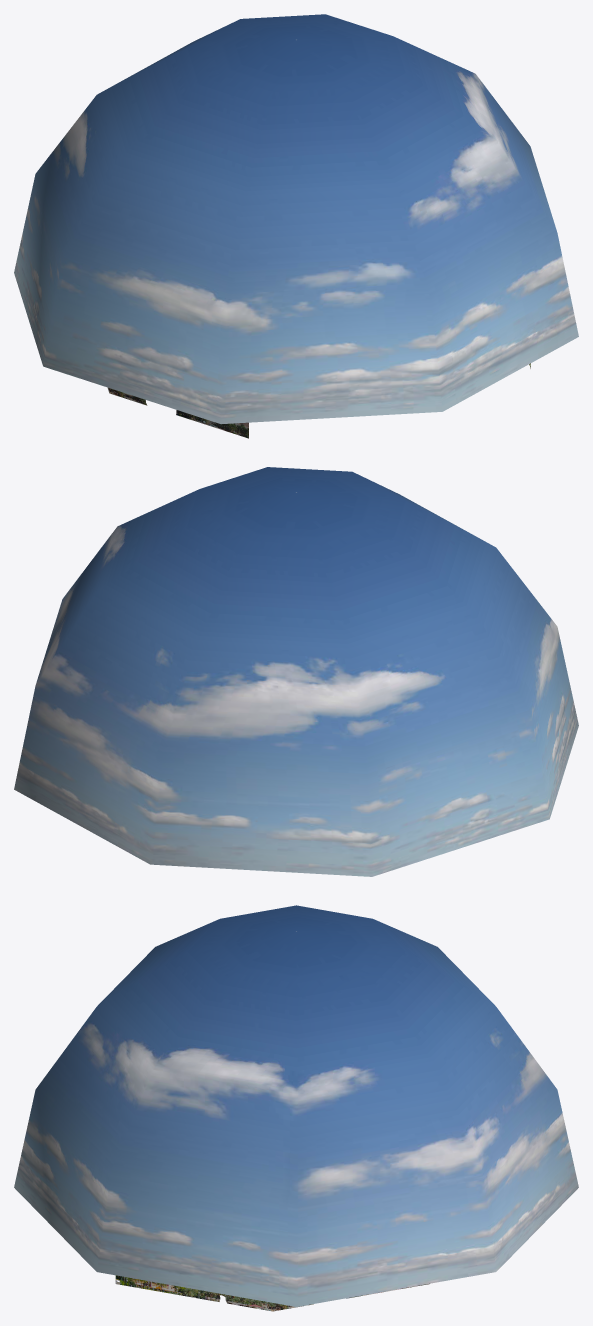
File: Map02.fbx
3 views of the same model, one above another, from view 1: azimuth 30°, elevation 25°; view 2: azimuth 150°, elevation 25°; view 3: azimuth 270°, elevation 25° (orthographic). The views are drawn at different scales.
Parts seen in each view (by area): view 1: obj9, obj6; view 2: obj9; view 3: obj9, obj6.
Part boxes in pixels (left/top/right/bottom): obj9: left=14, top=14, right=578, bottom=424; obj6: left=107, top=363, right=530, bottom=438; obj9: left=14, top=467, right=578, bottom=876; obj9: left=14, top=905, right=578, bottom=1306; obj6: left=115, top=1275, right=429, bottom=1311.
Size of the model in its own units: 920 by 517 by 920.
Materials: 17 (17 with a texture image).
